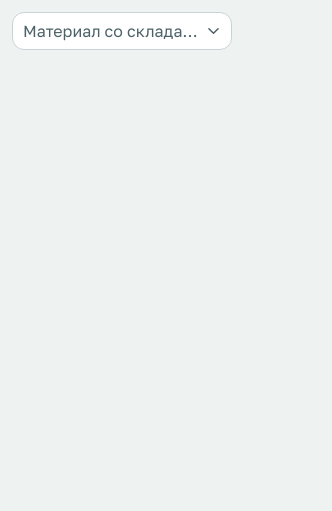
длинный список — с поиском; подсказка после « · » — серым, но в названии пункта
Click the dropdown.
click(122, 31)  # box 12,12 -> 232,50
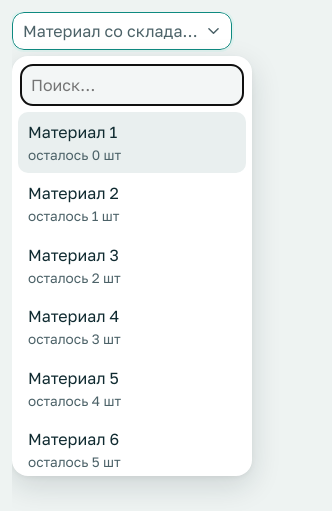
Type "риал 10" into the search field named "Поиск в списке".
click(132, 85); type("риал 10")  # box 20,64 -> 244,106
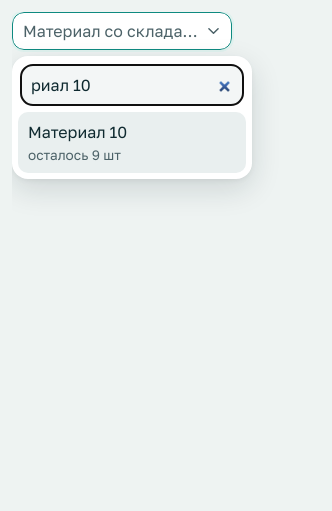
Check: the options read "Материал 10 · осталось 9 шт", in this order, box 18,112 -> 246,173
Replace the text in the search field with "нет такого" at x=132, y=85, box 20,64 -> 244,106
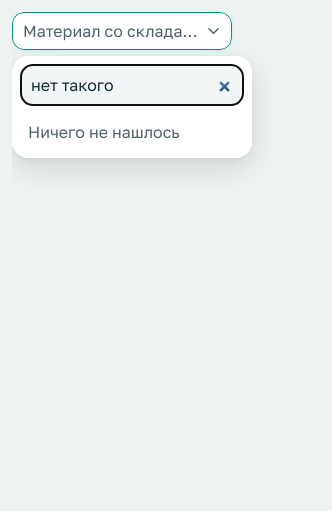
Check: the list item "Ничего не нашлось" is shown, box 28,122 -> 180,142
